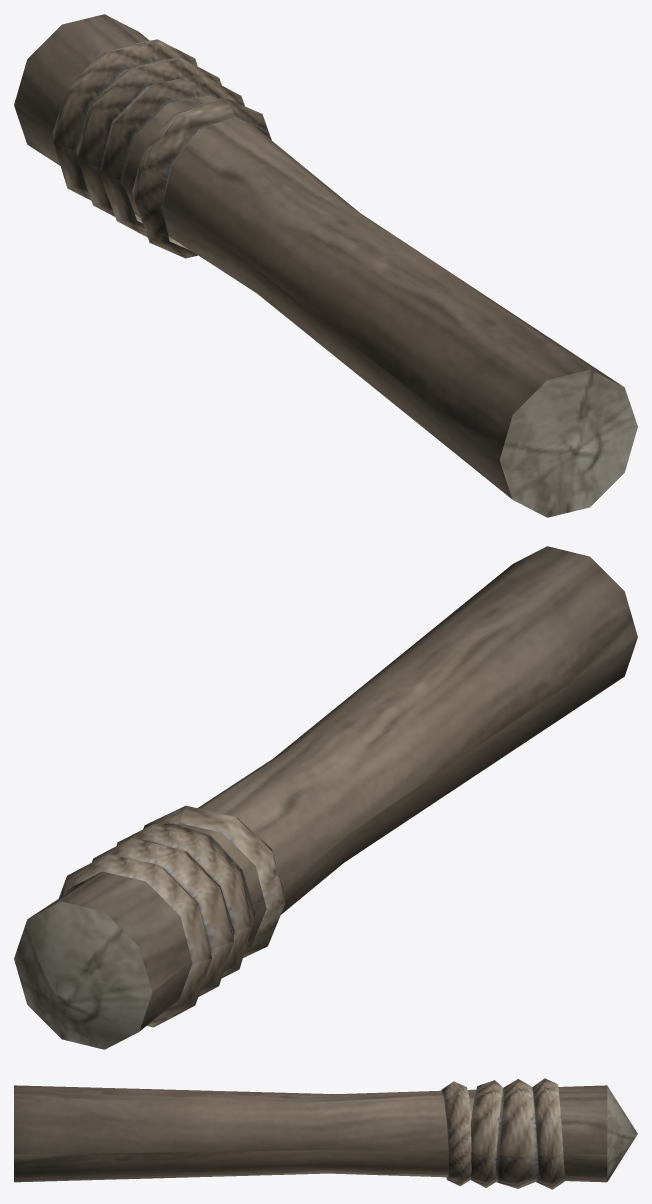
The model's file is Fence_Pole_Type_01_A.fbx.
3 views of the same model, one above another, from view 1: azimuth 30°, elevation 25°; view 2: azimuth 150°, elevation 25°; view 3: azimuth 270°, elevation 25° (orthographic). The views are drawn at different scales.
Visible parts, largest first — view 1: Fence_Pole_Type_01_A; view 2: Fence_Pole_Type_01_A; view 3: Fence_Pole_Type_01_A.
Boxes of the visible parts, x1,y1,x2,y2 form: Fence_Pole_Type_01_A: [14, 14, 637, 517]; Fence_Pole_Type_01_A: [14, 546, 637, 1049]; Fence_Pole_Type_01_A: [14, 1078, 637, 1189].
Bounding box in the file's own units: 0.2888 × 0.2772 × 1.61.
